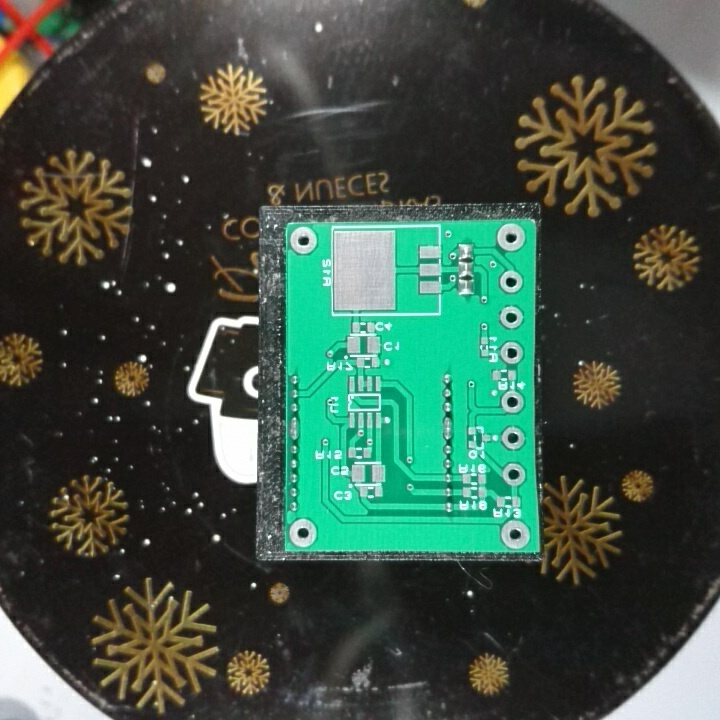F: (288, 223, 319, 257), (496, 222, 529, 253), (500, 520, 533, 551), (287, 516, 318, 547), (497, 303, 526, 332), (498, 423, 528, 451), (499, 386, 527, 415), (497, 338, 527, 364), (501, 458, 527, 486), (499, 266, 524, 295)
P: (440, 412, 459, 443), (287, 415, 305, 441)
